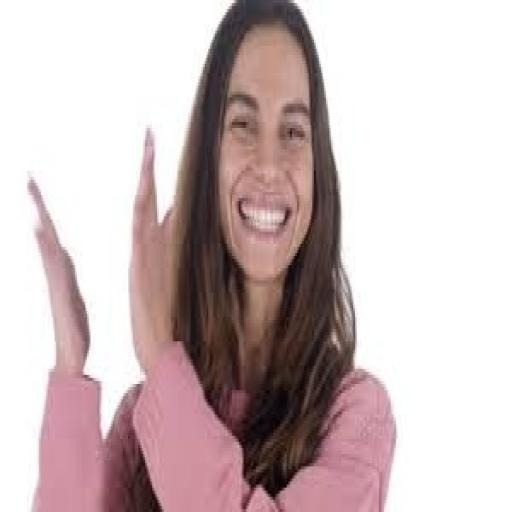clapping: (24, 0, 398, 509)
